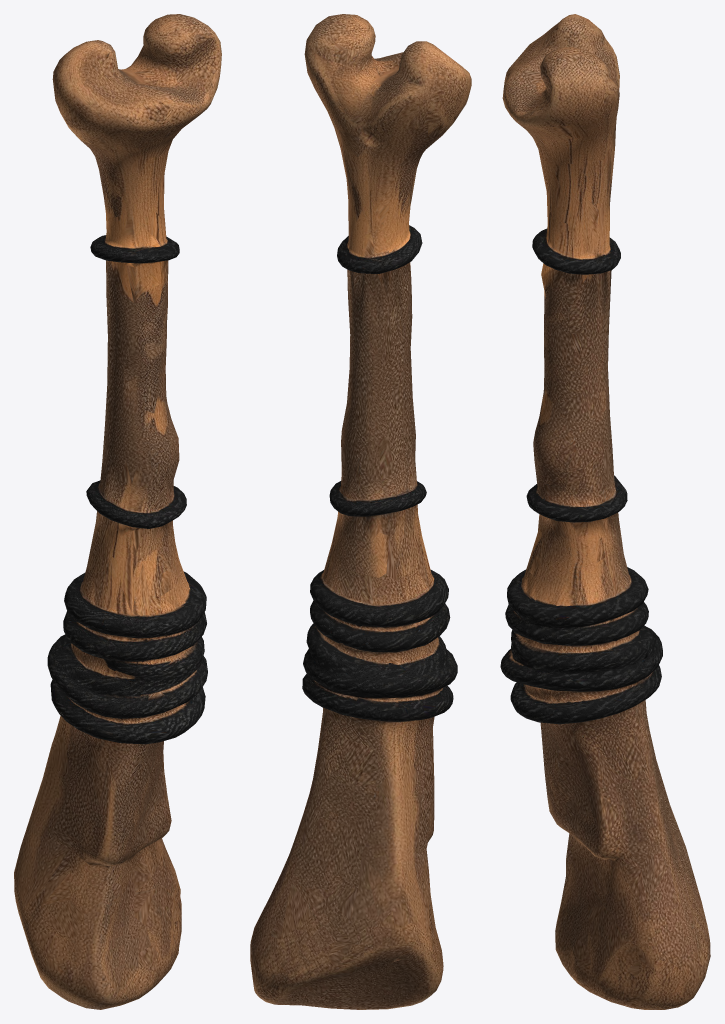
The model's file is SM_BoneClub.fbx.
3 views of the same model, side by side, from view 1: azimuth 30°, elevation 25°; view 2: azimuth 150°, elevation 25°; view 3: azimuth 270°, elevation 25° (orthographic). The views are drawn at different scales.
Visible parts, largest first — view 1: BoneClub; view 2: BoneClub; view 3: BoneClub.
Part boxes in pixels (x1,y1,x2,y2): BoneClub: (14,14,221,1009); BoneClub: (250,14,471,1009); BoneClub: (500,14,710,1009).
Size of the model in its own units: 12.87 by 72 by 14.34.
1 material, 1 textured.
